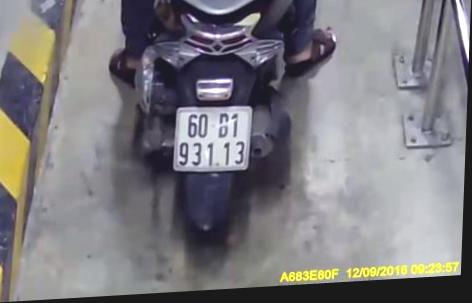License_Plate: (167, 100, 256, 179)
